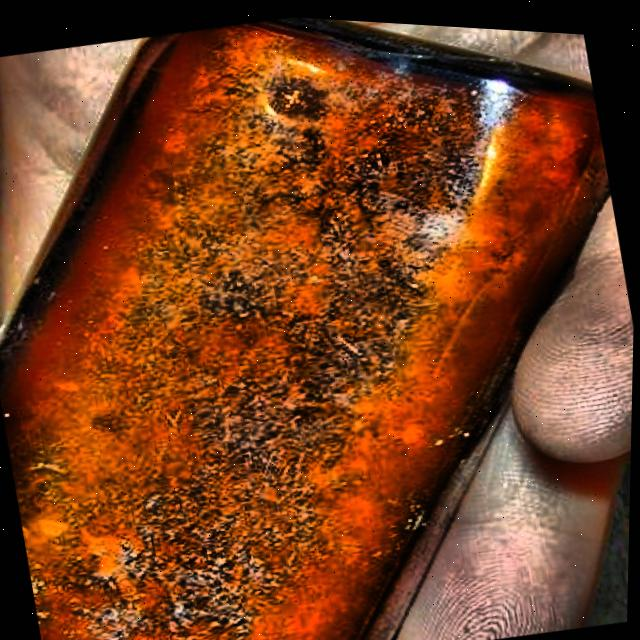glass: (0, 13, 608, 640)
